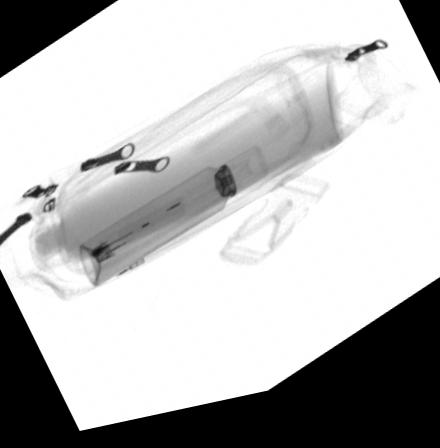Lighter: (88, 202, 187, 270)
Sprayer: (79, 155, 270, 292)
